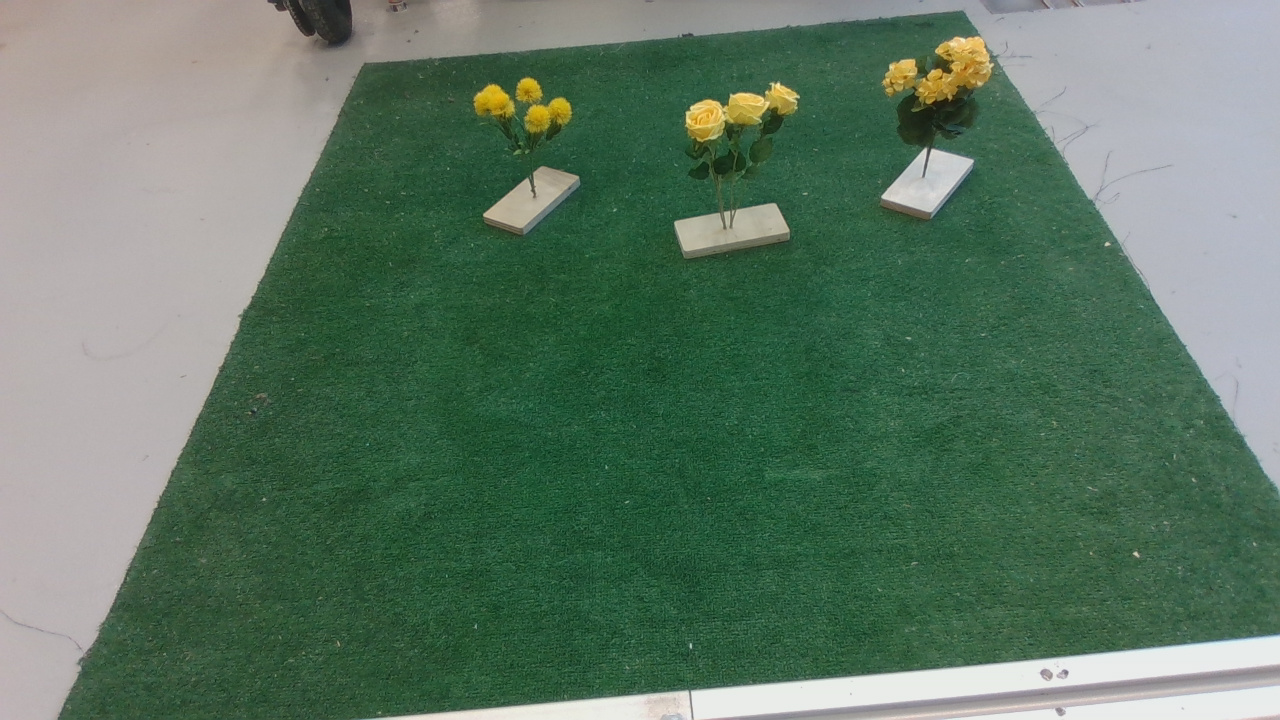dandelion: (467, 78, 583, 165)
geranium: (882, 36, 1008, 156)
rose: (678, 81, 819, 194)
